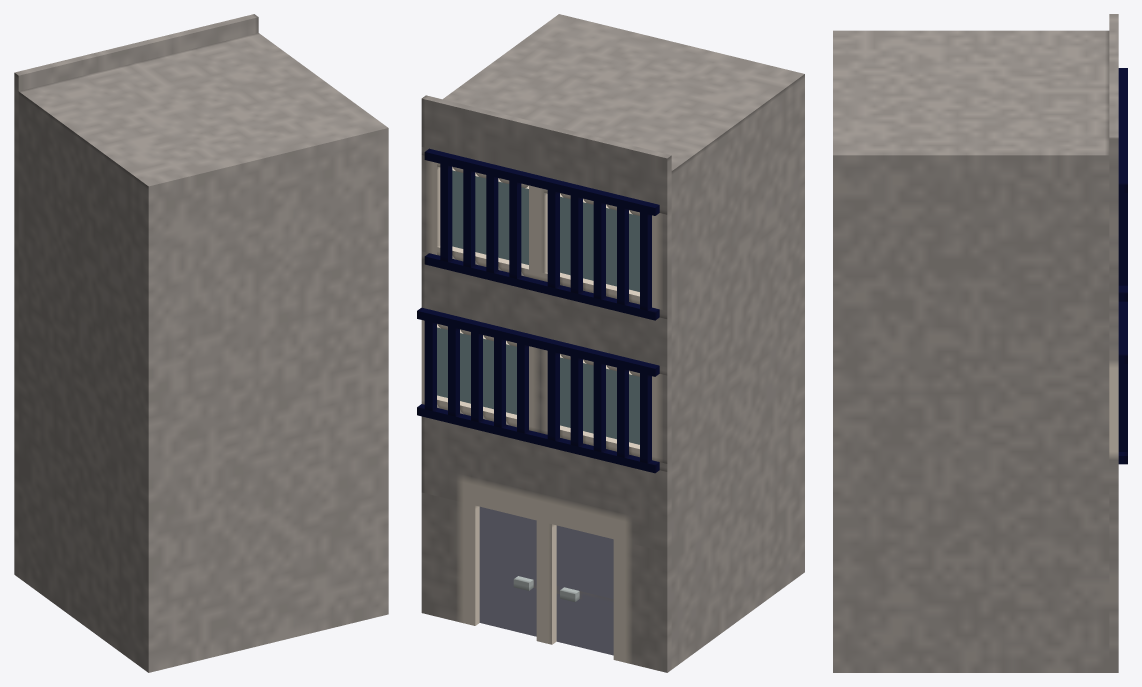
Rendered from sierociniec_front_dzwi.dae.
3 views of the same model, side by side, from view 1: azimuth 30°, elevation 25°; view 2: azimuth 150°, elevation 25°; view 3: azimuth 270°, elevation 25° (orthographic). The views are drawn at different scales.
Parts seen in each view (by area): view 1: Content; view 2: Content; view 3: Content.
Part boxes in pixels (x1,y1,x2,y2): Content: (14, 14, 388, 672); Content: (417, 14, 804, 672); Content: (833, 14, 1127, 672).
Size of the model in its own units: 32 by 64 by 32.
1 material, 1 textured.
